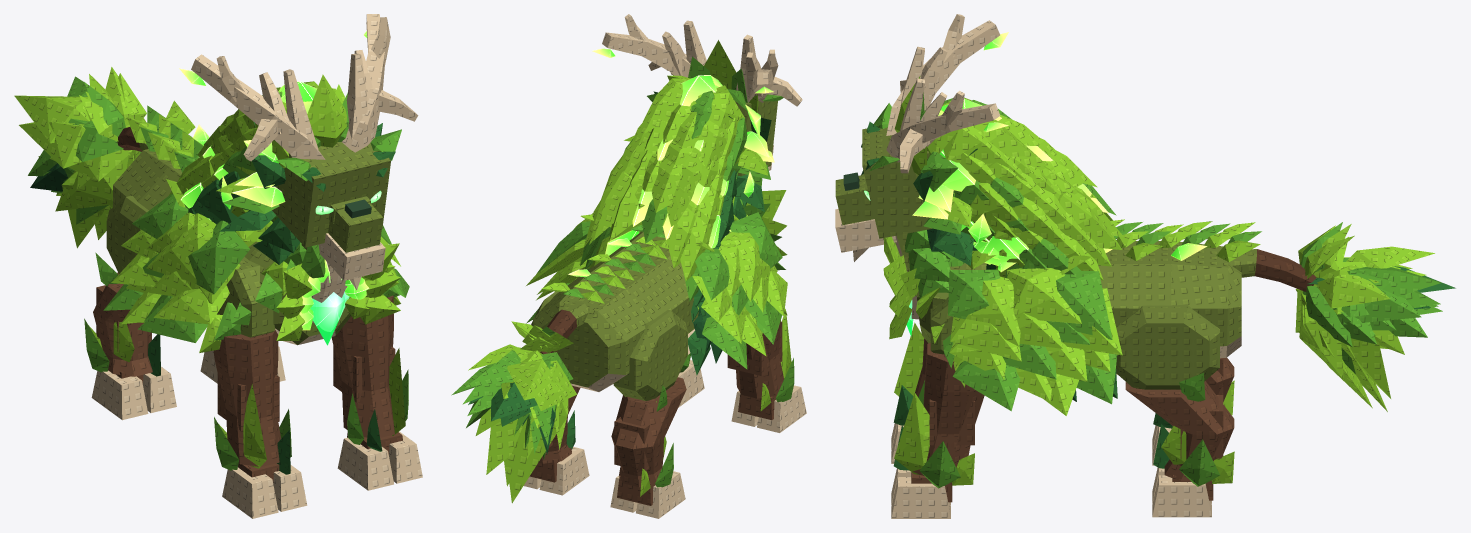
File: Qilin.glb
3 renders of one model, left to right at view 1: azimuth 30°, elevation 25°; view 2: azimuth 150°, elevation 25°; view 3: azimuth 270°, elevation 25°, orthographic. The views are drawn at different scales.
Parts seen in each view (by area): view 1: Qilin_Body, Qilin_Glow; view 2: Qilin_Body, Qilin_Glow; view 3: Qilin_Body, Qilin_Glow.
Part boxes in pixels (box(x1,y1,x2,y2)): Qilin_Body: box(14, 14, 422, 518); Qilin_Glow: box(179, 31, 381, 345); Qilin_Body: box(451, 14, 806, 518); Qilin_Glow: box(568, 48, 774, 277); Qilin_Body: box(835, 14, 1455, 518); Qilin_Glow: box(864, 32, 1207, 336).
Bounding box in the file's own units: 10.4 × 16.54 × 21.9.
1 material, 1 textured.
